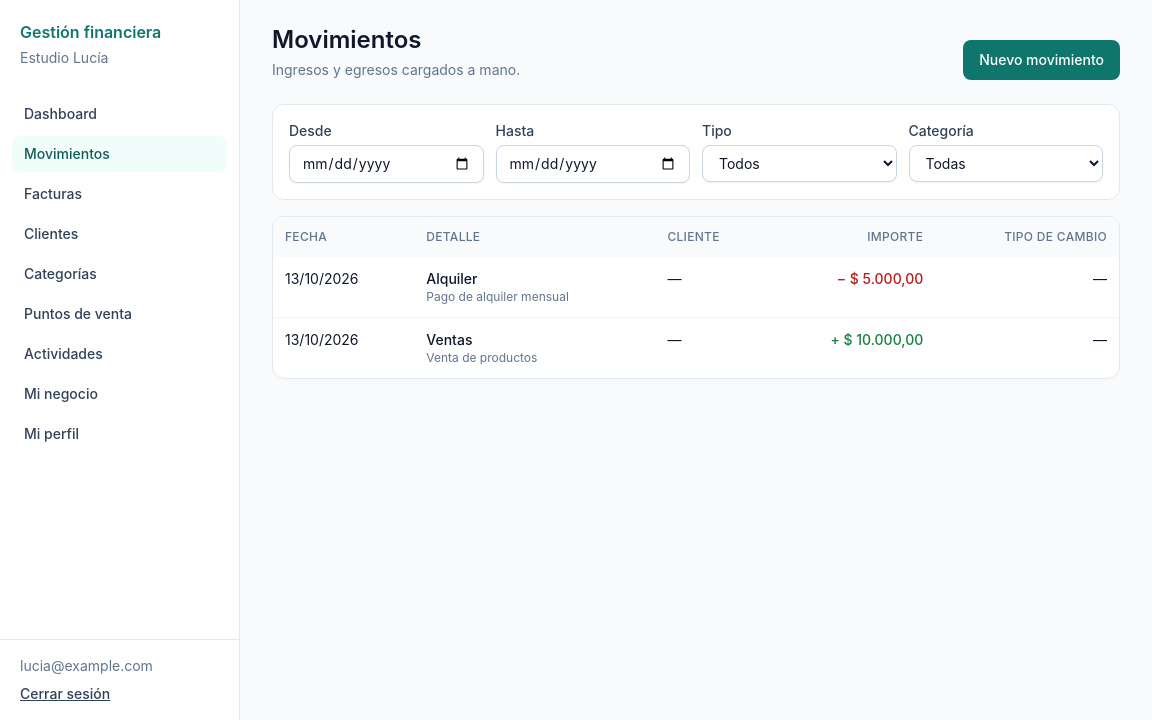
Test case: transaction filters and history (Issue #32) › filters movements by type in the table
Expected: the text "Venta de productos" is shown, 426,350 -> 537,365
Expected: the text "Pago de alquiler mensual" is shown, 426,289 -> 569,304
// Filter by type: Egresos
Select "Egresos" in the dropdown labelled "Tipo" at (799, 164), box 702,145 -> 896,182
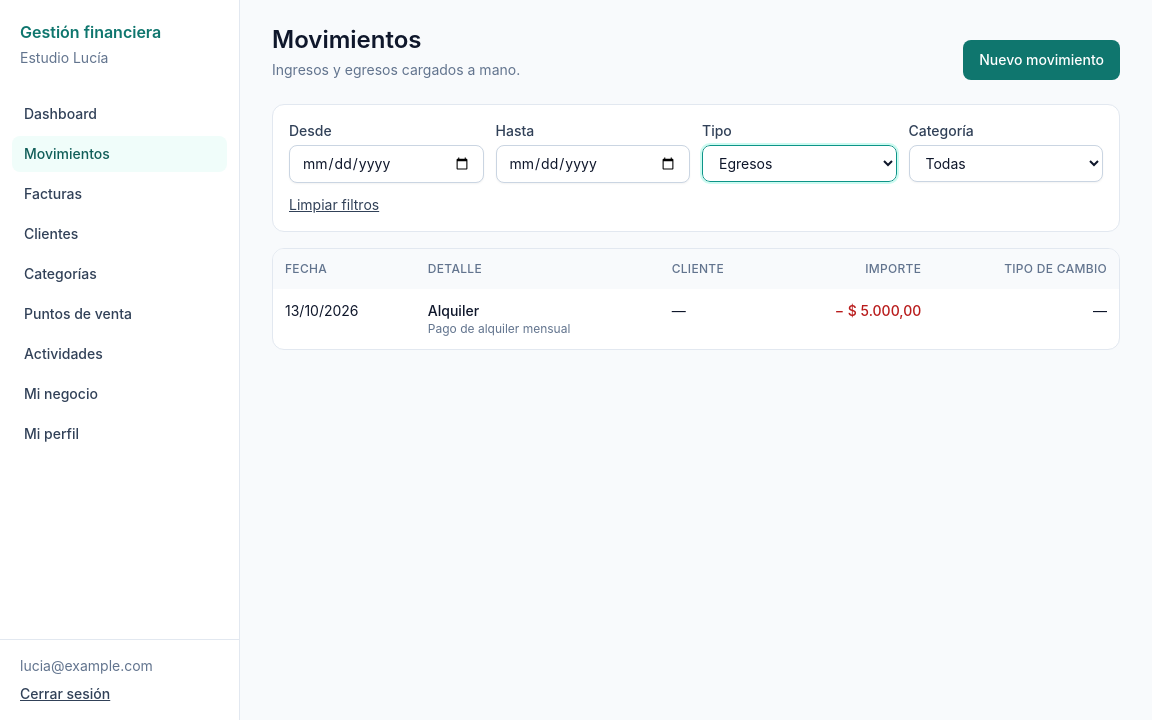
Expected: the text "Pago de alquiler mensual" is shown, 428,321 -> 570,336
Now the text "Venta de productos" is gone
// Filter by type: Ingresos
Select "Ingresos" in the dropdown labelled "Tipo" at (799, 164), box 702,145 -> 896,182
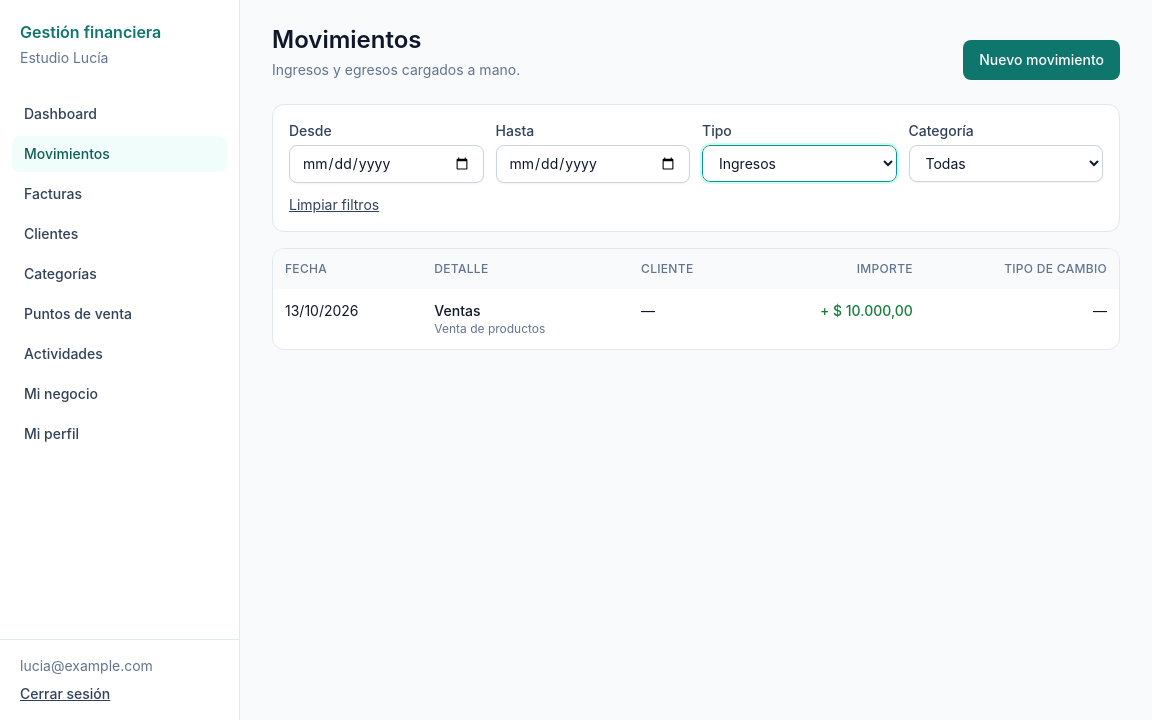
Now the text "Pago de alquiler mensual" is gone
Now the text "Venta de productos" is shown, box 434,321 -> 545,336
// Reset filter
Click the button "Limpiar filtros".
click(334, 205)  # box 289,195 -> 379,215
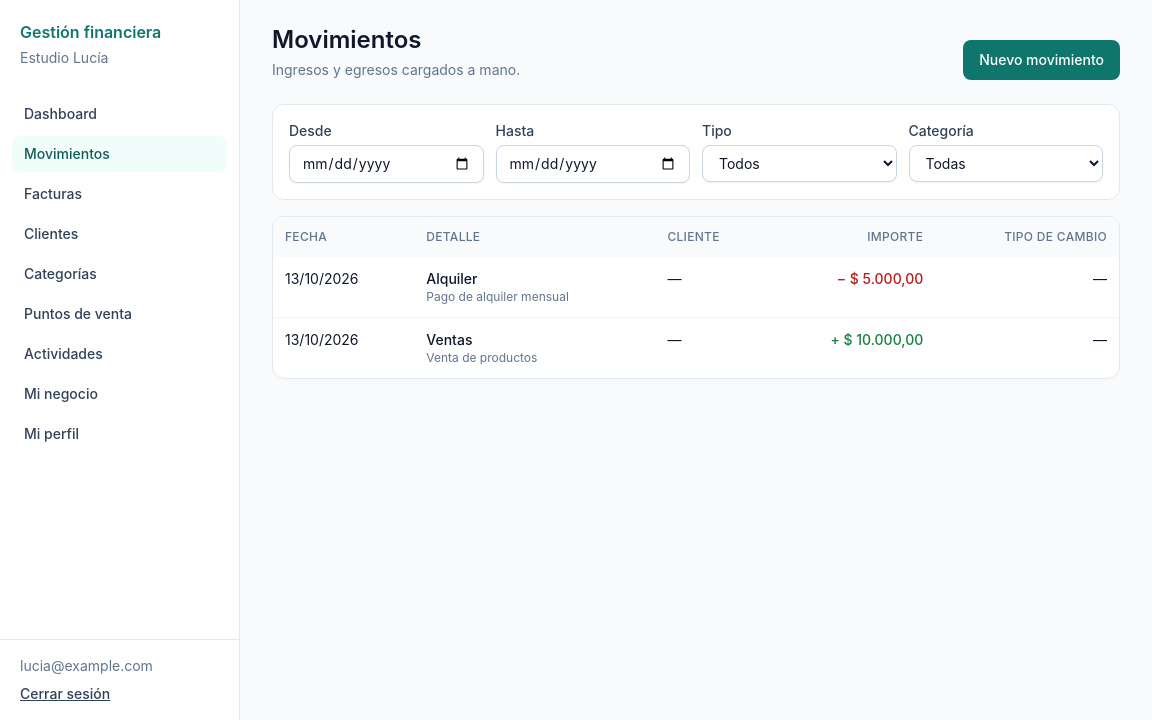
Now the text "Venta de productos" is shown, box 426,350 -> 537,365
Now the text "Pago de alquiler mensual" is shown, box 426,289 -> 569,304
